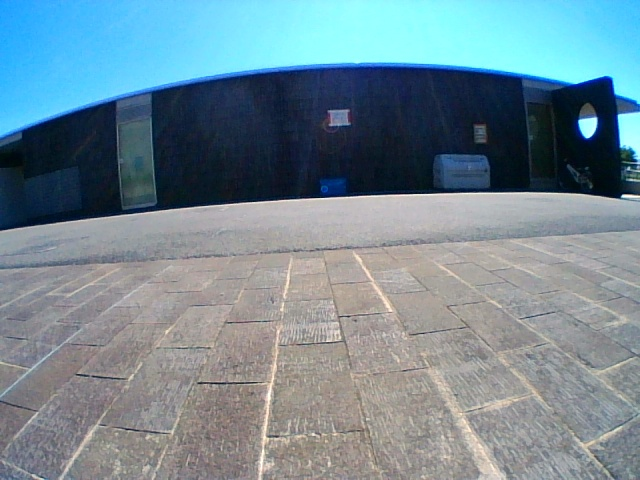blue_box: (321, 179, 345, 195)
